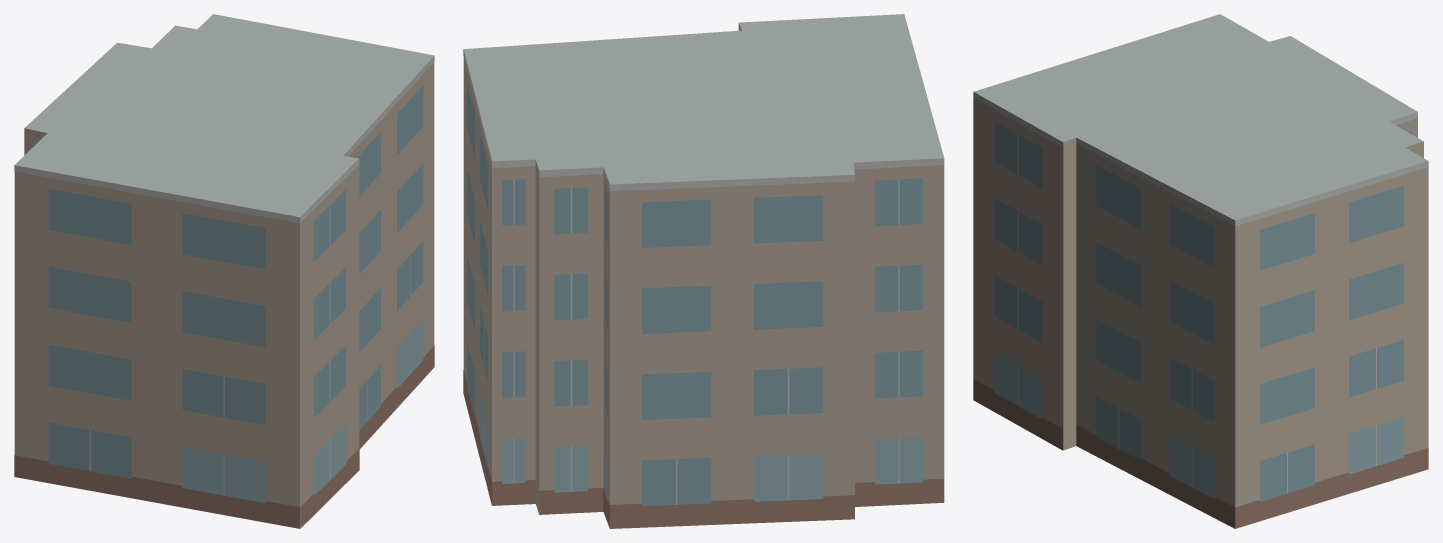
File: survey-upis-32489379.glb
3 renders of one model, left to right at view 1: azimuth 30°, elevation 25°; view 2: azimuth 150°, elevation 25°; view 3: azimuth 270°, elevation 25°, orthographic. The views are drawn at different scales.
Parts seen in each view (by area): view 1: survey-upis-32489379.tmp; view 2: survey-upis-32489379.tmp; view 3: survey-upis-32489379.tmp.
Boxes of the visible parts, box(x1,y1,x2,y2) form: survey-upis-32489379.tmp: box(14, 14, 434, 528); survey-upis-32489379.tmp: box(463, 14, 944, 528); survey-upis-32489379.tmp: box(973, 14, 1428, 528).
Size of the model in its own units: 17.81 by 12.4 by 16.59.
